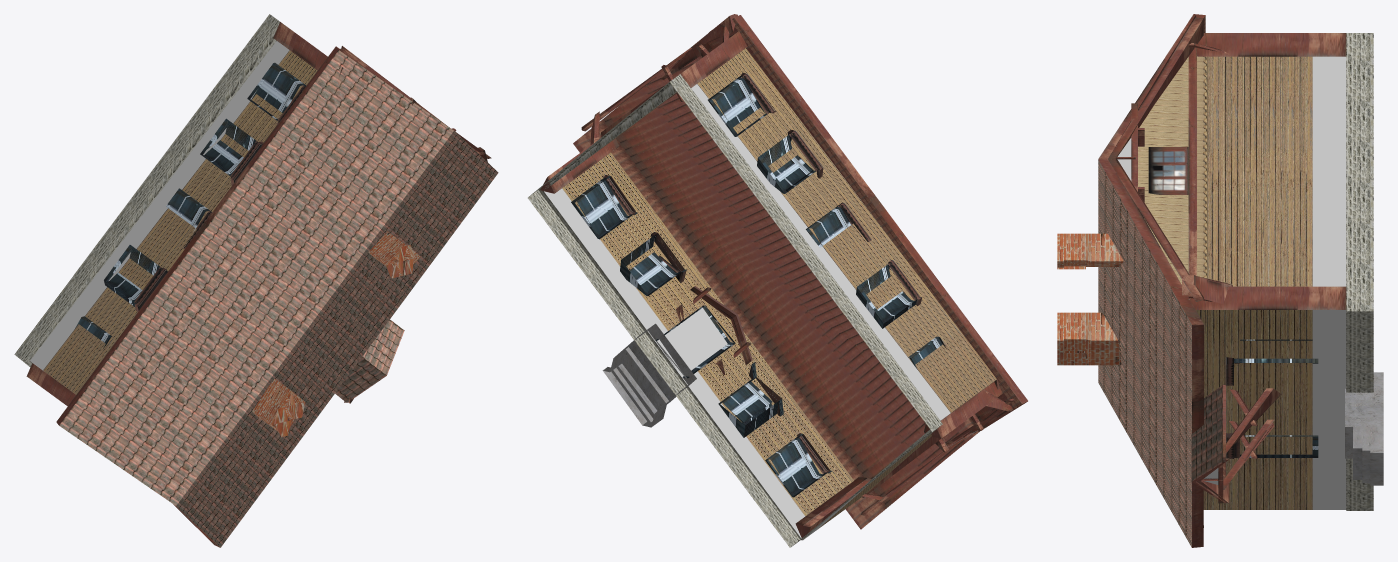
The model's file is Suutryki_10-origo.obj.
3 renders of one model, left to right at view 1: azimuth 30°, elevation 25°; view 2: azimuth 150°, elevation 25°; view 3: azimuth 270°, elevation 25°, orthographic. The views are drawn at different scales.
Visible parts, largest first — view 1: Suurtyki_10; view 2: Suurtyki_10; view 3: Suurtyki_10.
Boxes of the visible parts, left/top/right/bottom form: Suurtyki_10: left=14, top=14, right=498, bottom=547; Suurtyki_10: left=528, top=14, right=1027, bottom=547; Suurtyki_10: left=1057, top=14, right=1383, bottom=547.
Bounding box in the file's own units: 15.69 × 16 × 7.76.
